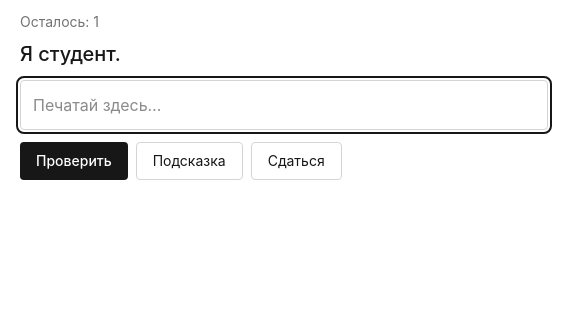
Test case: DrillScreen attempt persistence › flushes a pending local wrong before a later local correction
The width and height of the screenshot is (569, 331).
Expected: the heading "Я студент." is shown, [20,42,121,66]
Type "Totally wrong" into the field.
click(284, 105); type("Totally wrong")  # box [20,80,548,130]
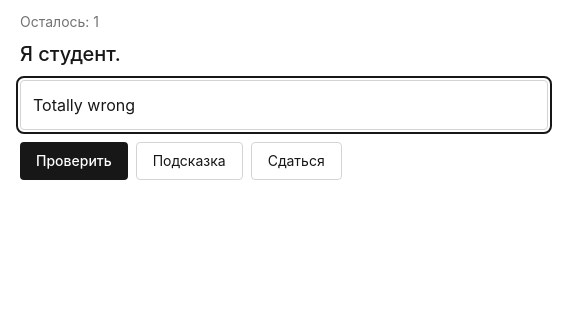
Click the button "Проверить".
click(74, 161)  # box [20,142,128,180]
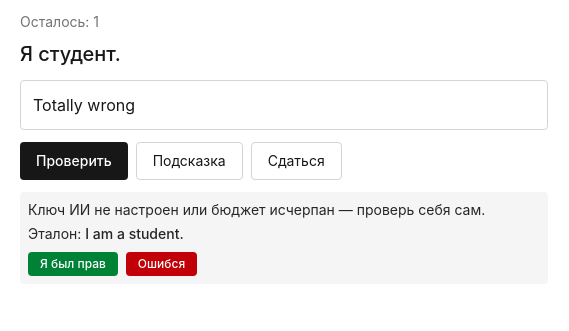
Expected: the button "Я был прав" is shown, [28,252,118,276]
Replace the text in the field with "I am a student." at (284, 105), box [20,80,548,130]
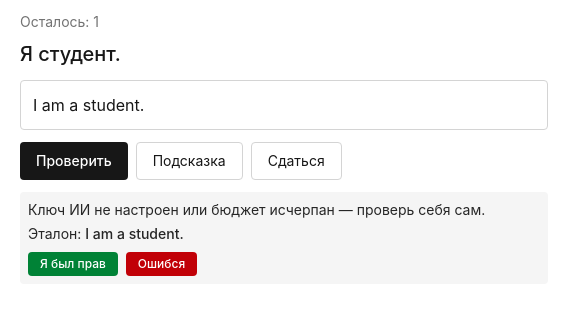
Click the button "Проверить".
click(74, 161)  # box [20,142,128,180]
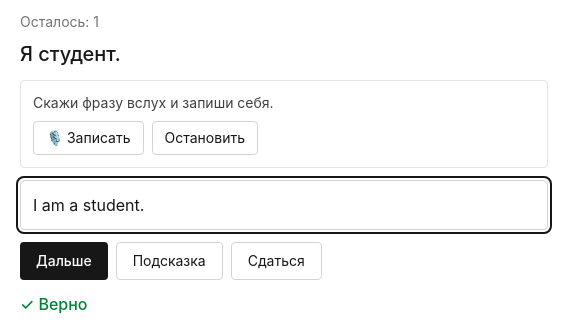
Expected: the button "Я был прав" is gone
